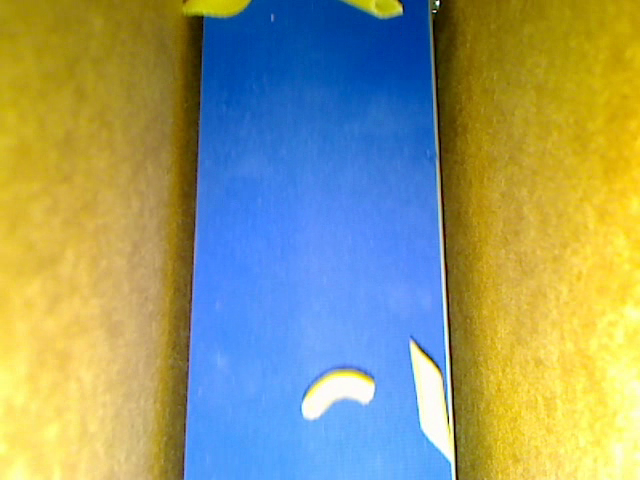elbow: (299, 367, 376, 420)
penne: (408, 337, 454, 462), (340, 1, 403, 21)
shell: (182, 1, 252, 19)
